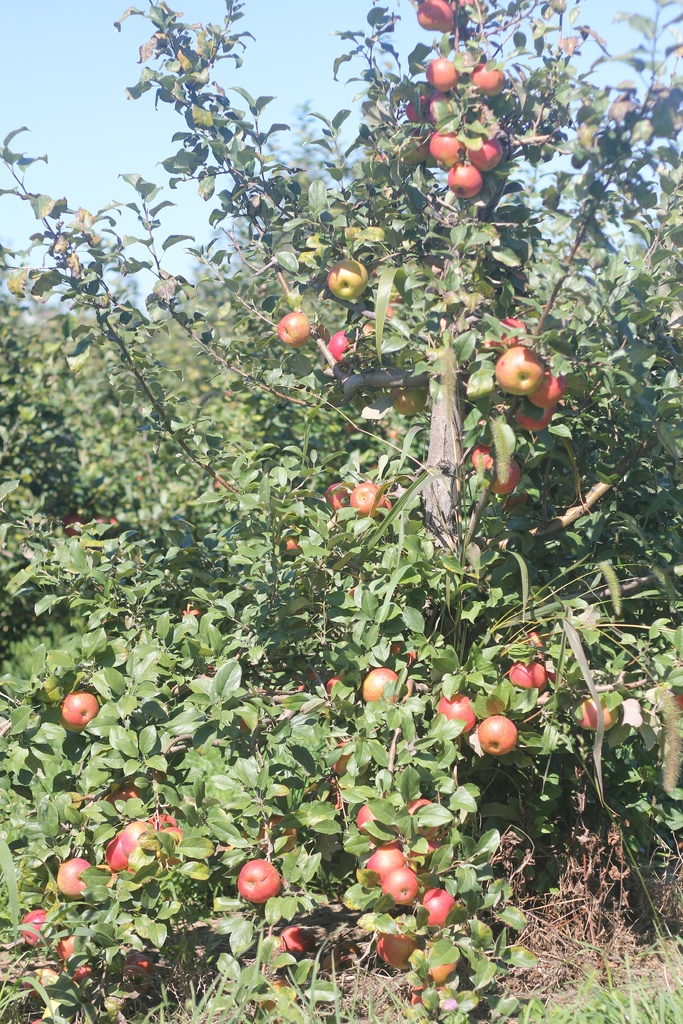Apple: (10, 813, 189, 997), (401, 0, 513, 196), (351, 796, 444, 1004), (467, 443, 523, 497), (493, 343, 548, 396), (325, 324, 378, 366), (322, 259, 365, 301), (253, 815, 297, 856), (272, 310, 312, 350), (236, 862, 276, 901), (362, 666, 403, 704), (477, 713, 516, 752), (515, 399, 558, 434), (388, 382, 432, 415), (332, 737, 364, 780), (572, 701, 620, 729), (485, 315, 528, 346), (432, 698, 474, 729), (63, 689, 96, 721), (348, 483, 379, 516), (276, 925, 312, 953), (508, 656, 544, 684), (534, 373, 568, 401), (509, 631, 544, 652), (324, 668, 346, 701), (324, 480, 350, 506), (106, 787, 140, 805), (281, 525, 296, 548)
